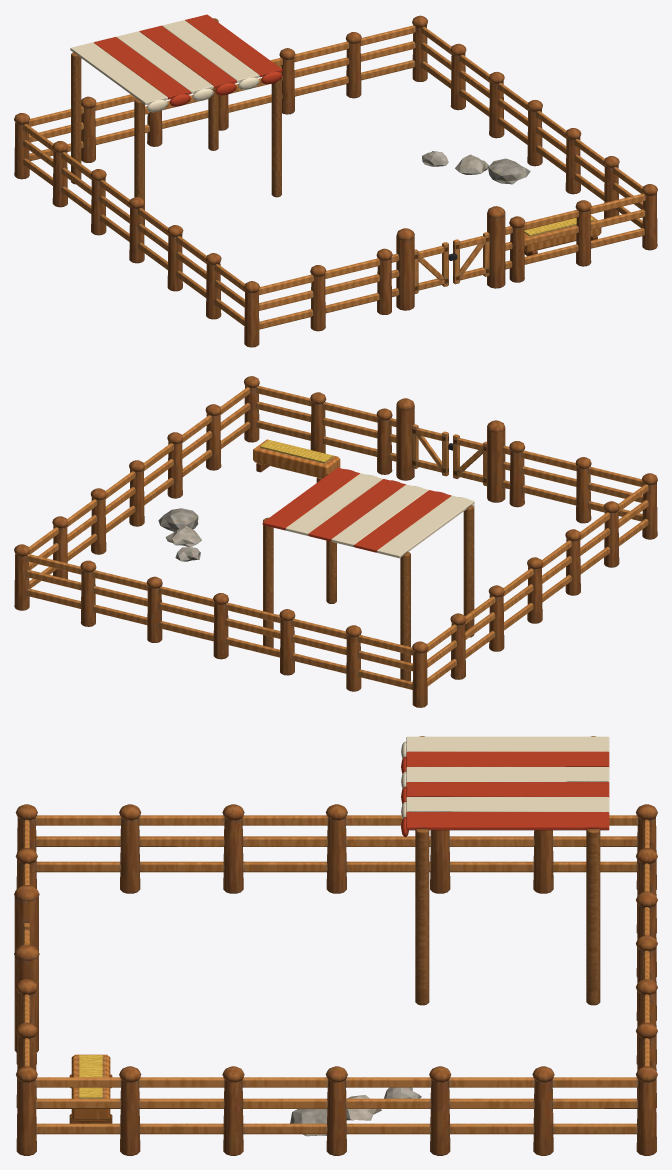
The model's file is bactrian_corral.glb.
3 renders of one model, top to bottom at view 1: azimuth 30°, elevation 25°; view 2: azimuth 150°, elevation 25°; view 3: azimuth 270°, elevation 25°, orthographic. The views are drawn at different scales.
Visible parts, largest first — view 1: bactrian_corral; view 2: bactrian_corral; view 3: bactrian_corral.
Part boxes in pixels (x1=…): bactrian_corral: x1=14, y1=14, x2=657, y2=347; bactrian_corral: x1=14, y1=376, x2=657, y2=707; bactrian_corral: x1=14, y1=736, x2=657, y2=1155.
Bounding box in the file's own units: 3 × 0.9101 × 3.01.
Materials: 1 (1 with a texture image).
